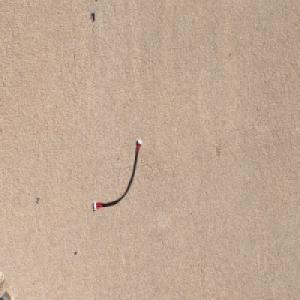Wire: (93, 138, 142, 212)
